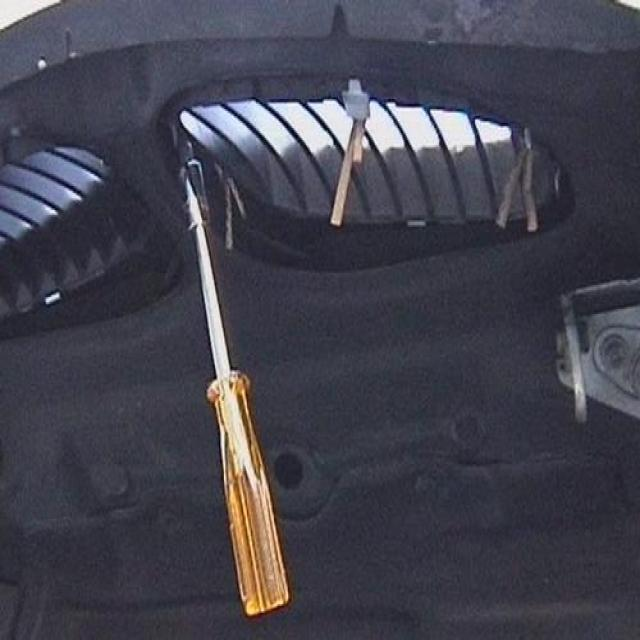screw driver: (156, 147, 311, 640)
